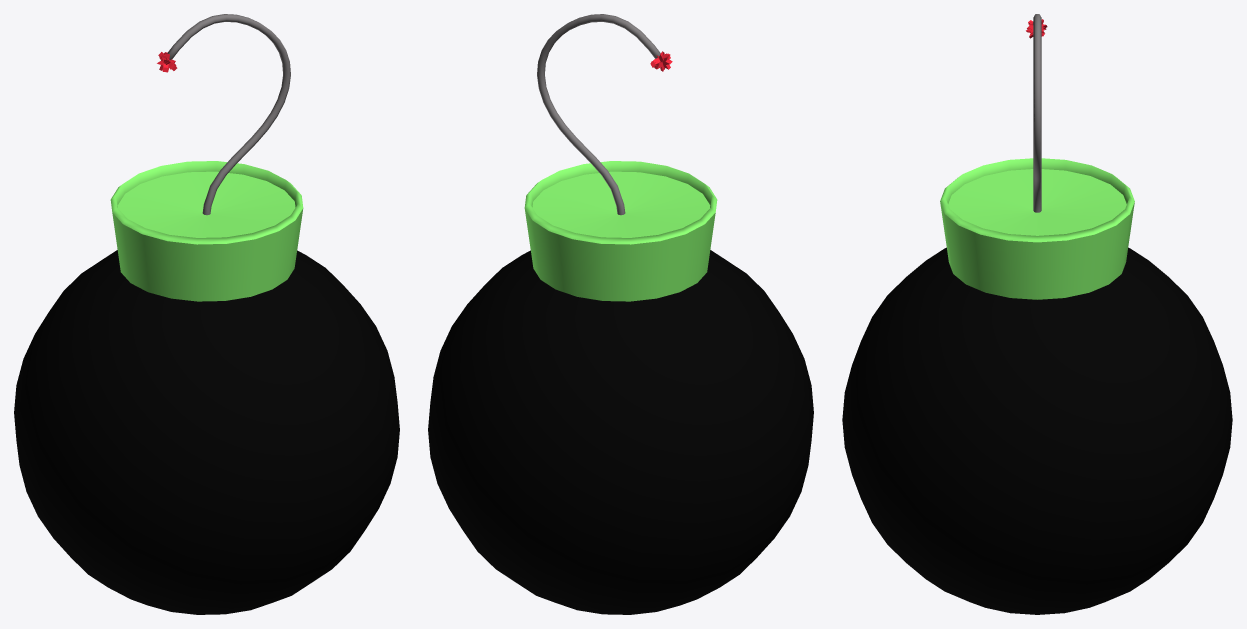
Rendered from Bomb_2.fbx.
3 views of the same model, side by side, from view 1: azimuth 30°, elevation 25°; view 2: azimuth 150°, elevation 25°; view 3: azimuth 270°, elevation 25° (orthographic).
Parts seen in each view (by area): view 1: Bomb 2; view 2: Bomb 2; view 3: Bomb 2.
Part boxes in pixels (<box>): Bomb 2: <box>14,14,399,614</box>; Bomb 2: <box>428,14,813,614</box>; Bomb 2: <box>842,14,1232,614</box>.
Bounding box in the file's own units: 73.17 × 120 × 73.17.
